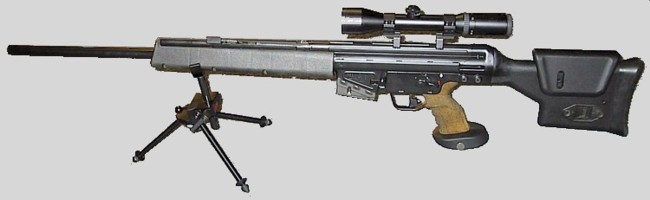Arma Real: (5, 6, 646, 193)
